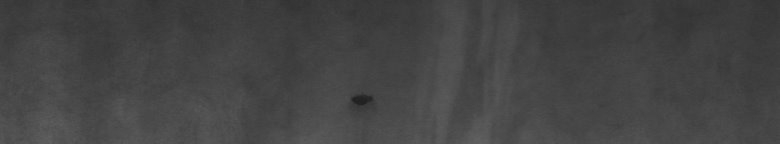fi: (345, 88, 374, 112)
